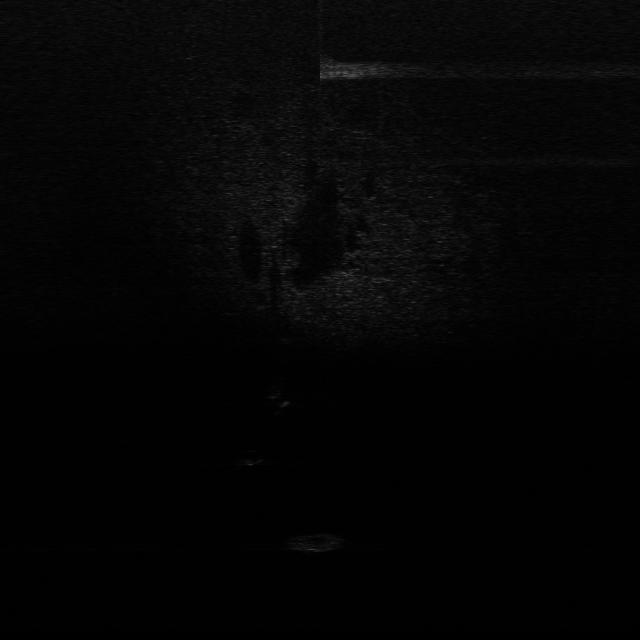ball: (242, 446, 268, 468)
circle cage: (283, 530, 347, 552)
human body: (263, 374, 293, 416)
